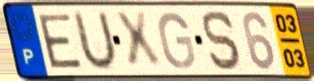6: (240, 9, 277, 73)
E: (35, 12, 85, 70)
G: (157, 11, 198, 72)
S: (201, 9, 245, 73)
U: (72, 9, 119, 74)
X: (112, 9, 165, 72)
